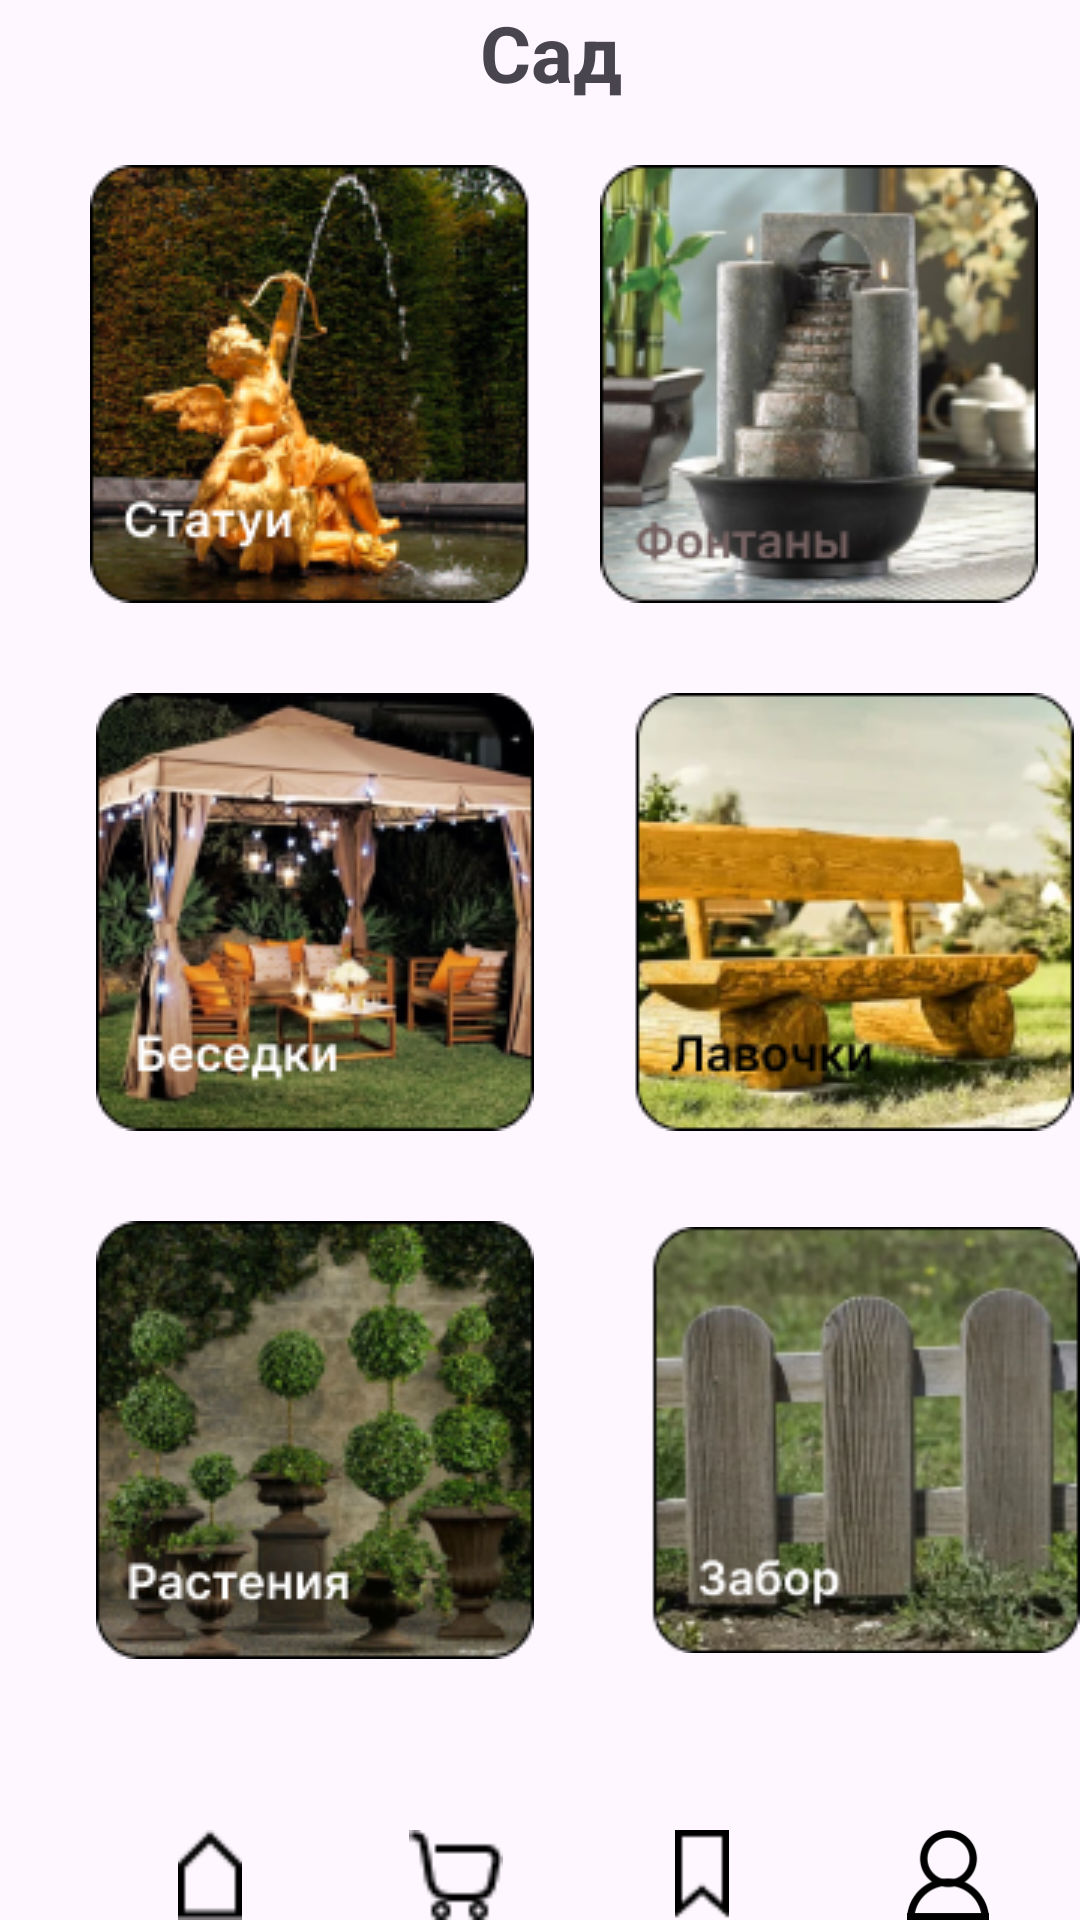

Icons on this 1080w x 1920h Android screen, each with the point to tap as (x=x, y=y):
cart: (x=456, y=1875)
favorites: (x=702, y=1874)
home: (x=210, y=1875)
user: (x=948, y=1875)
